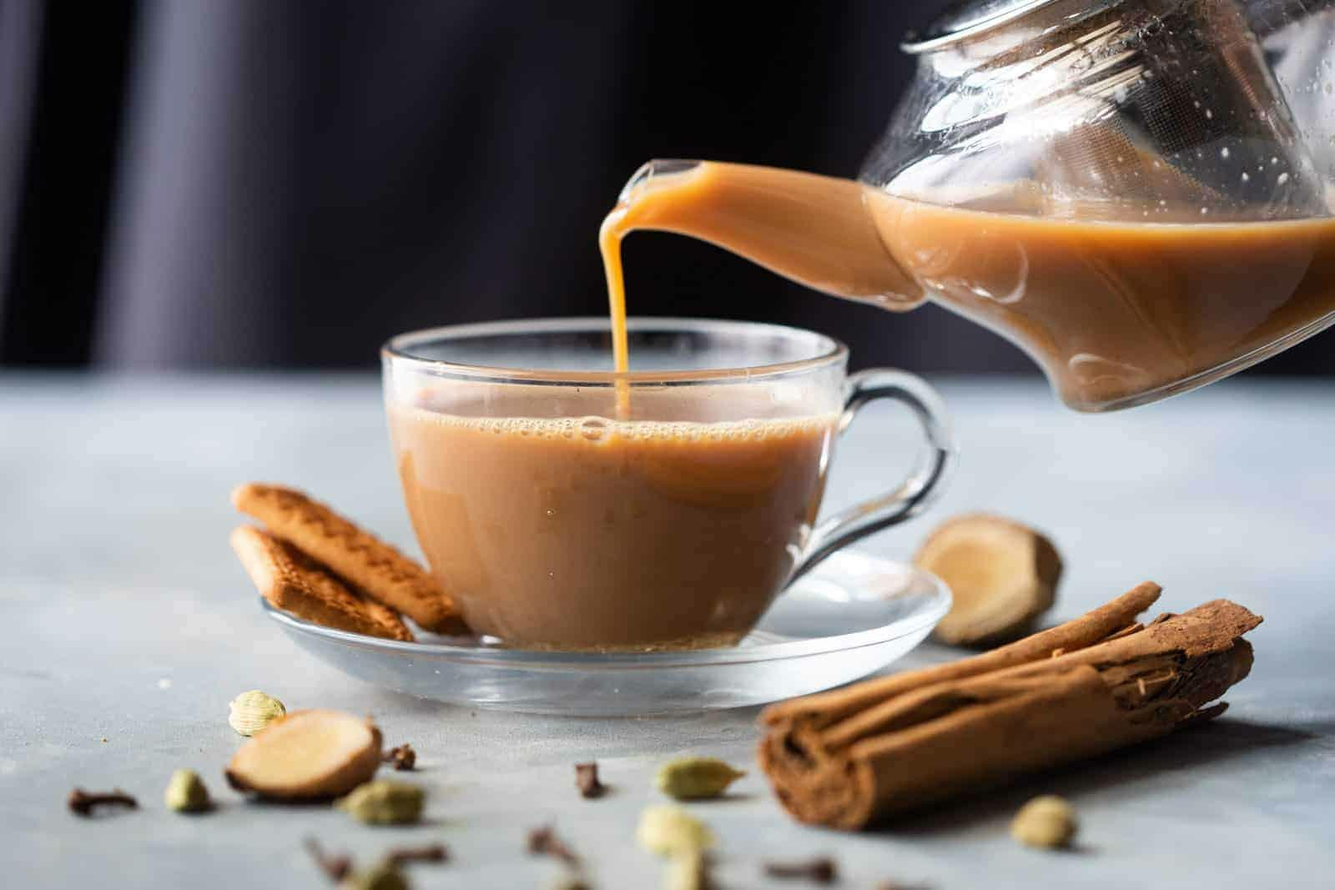Chai: (597, 163, 1329, 422), (387, 368, 836, 657)
